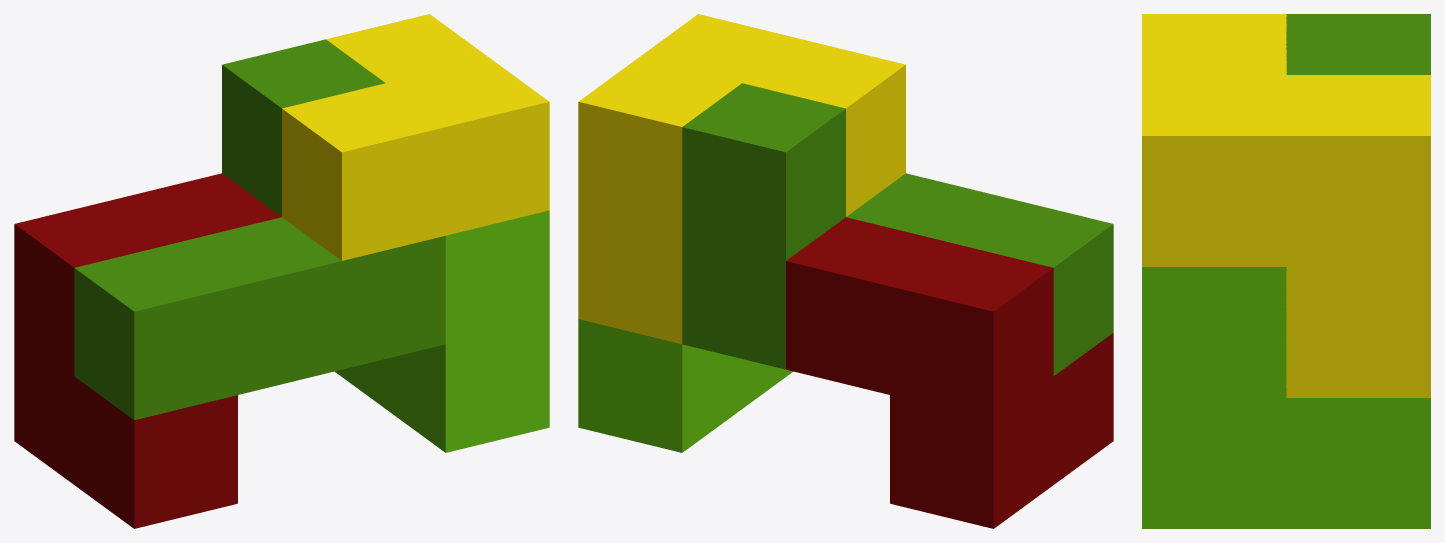
3 renders of one model, left to right at view 1: azimuth 30°, elevation 25°; view 2: azimuth 150°, elevation 25°; view 3: azimuth 270°, elevation 25°, orthographic. The views are drawn at different scales.
Visible parts, largest first — view 1: mergedBlocks(Clone); view 2: mergedBlocks(Clone); view 3: mergedBlocks(Clone).
Part boxes in pixels (left/top/right/bottom): mergedBlocks(Clone): left=14, top=14, right=549, bottom=528; mergedBlocks(Clone): left=578, top=14, right=1113, bottom=528; mergedBlocks(Clone): left=1142, top=14, right=1430, bottom=528.
Bounding box in the file's own units: 4 × 3 × 2.
Materials: 4 (4 with a texture image).
